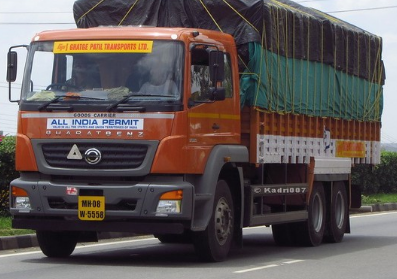truck: (5, 1, 386, 269)
